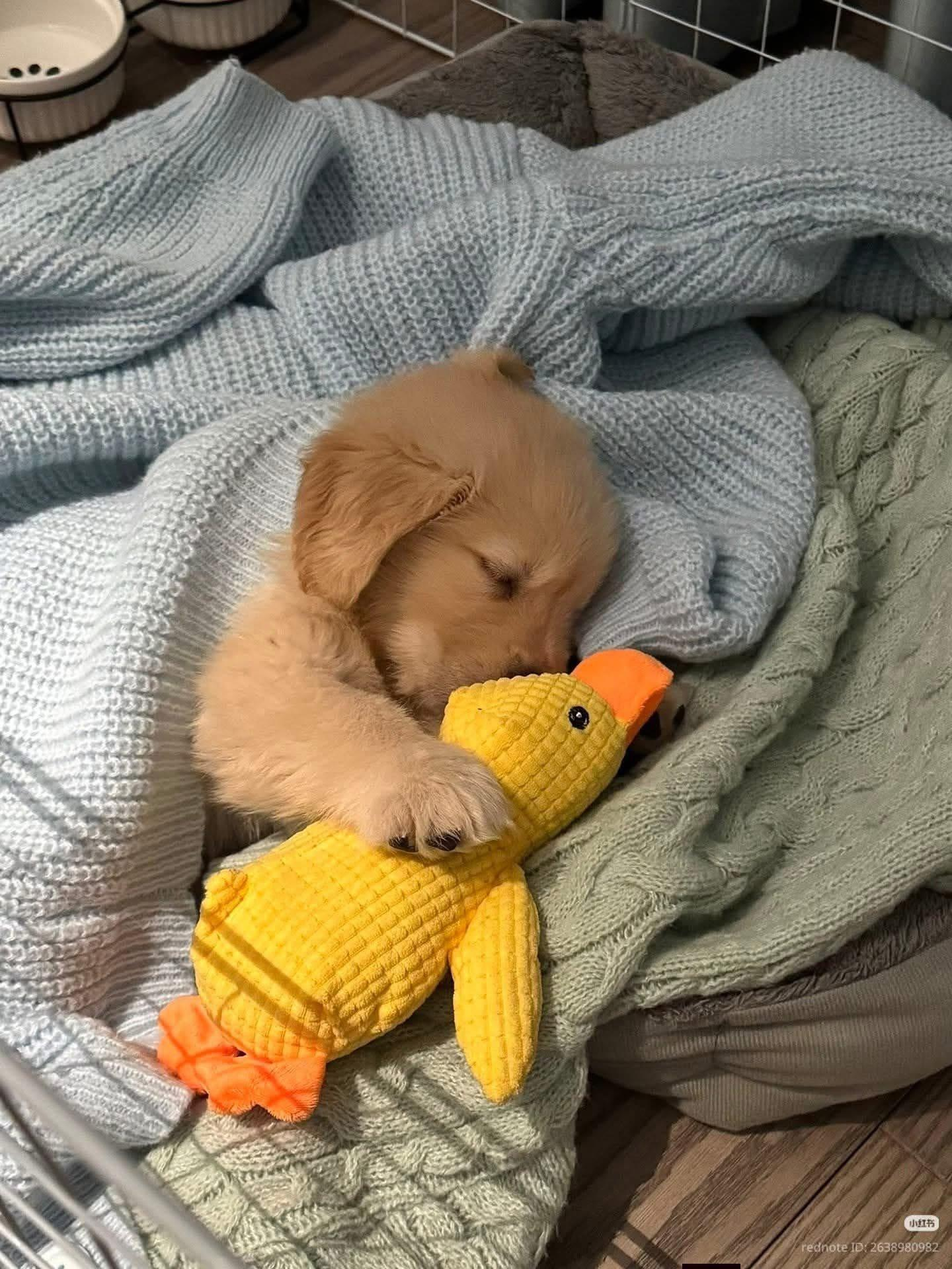puppy-dog: (190, 340, 637, 857)
